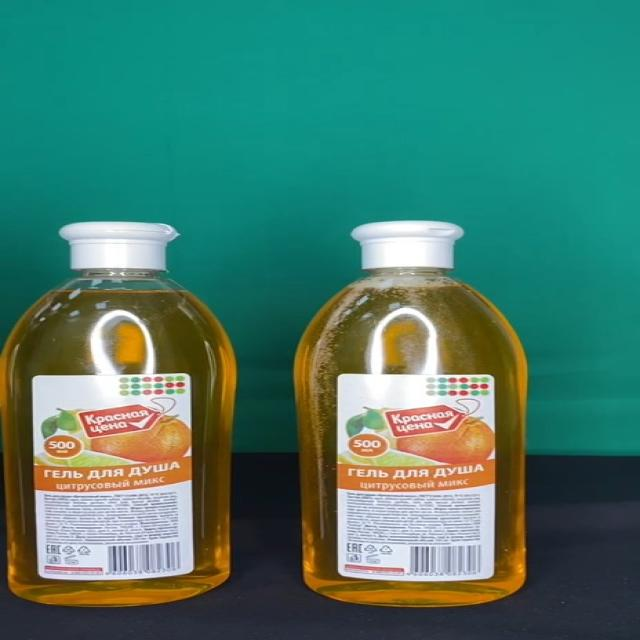Bottle: (290, 222, 528, 607), (0, 223, 237, 605)
Cap: (57, 222, 179, 271), (349, 222, 464, 269)
